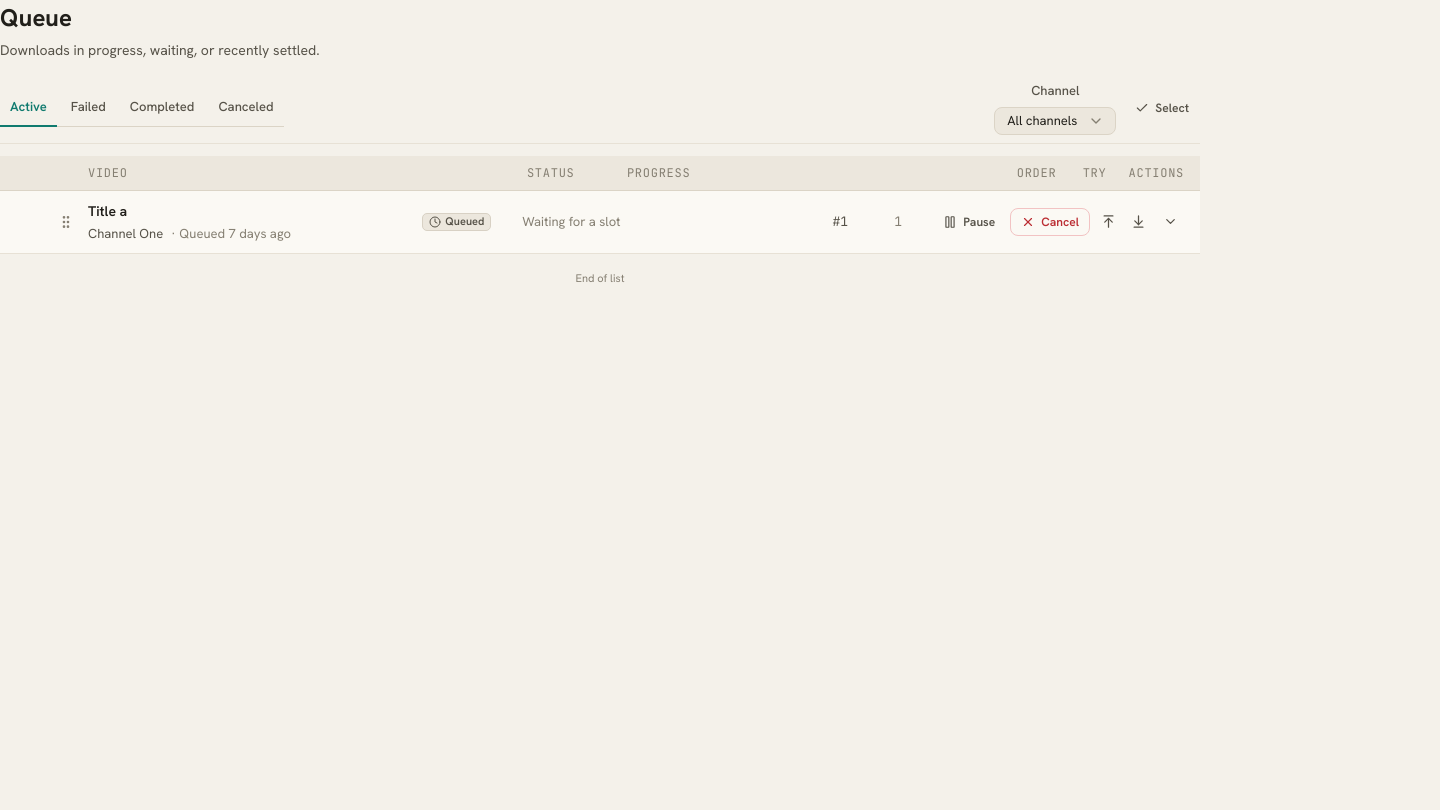
Test: QueuePage — cancel (§5.1) › confirms, then removes the row on a 200 settle
The width and height of the screenshot is (1440, 810).
Expected: the link "Title a" is shown, x1=88 y1=200 x2=127 y2=222
Click the button "Cancel" at (1050,222), box x1=1010 y1=208 x2=1090 y2=236
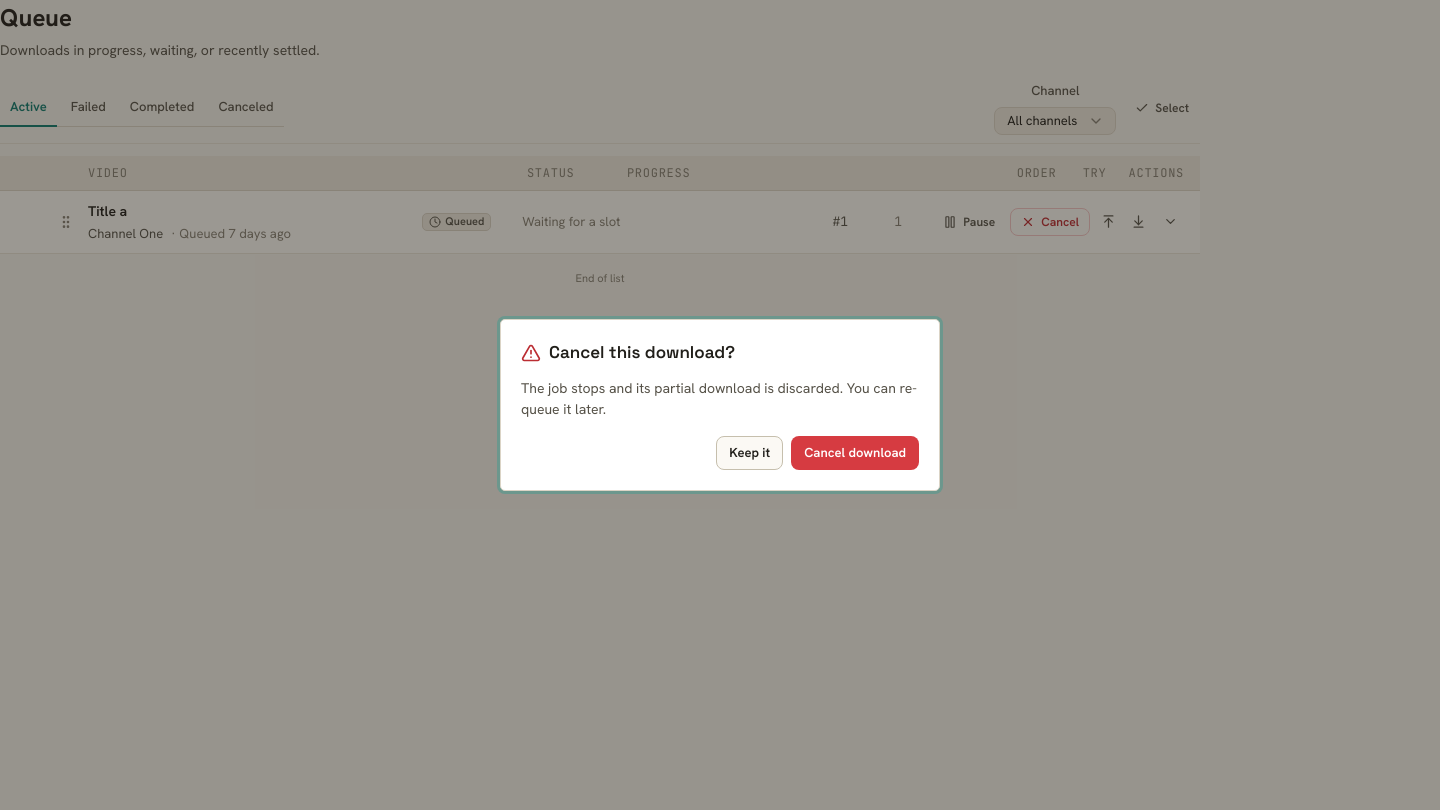
Click the button "Cancel download" at (855,453), box x1=791 y1=436 x2=919 y2=470
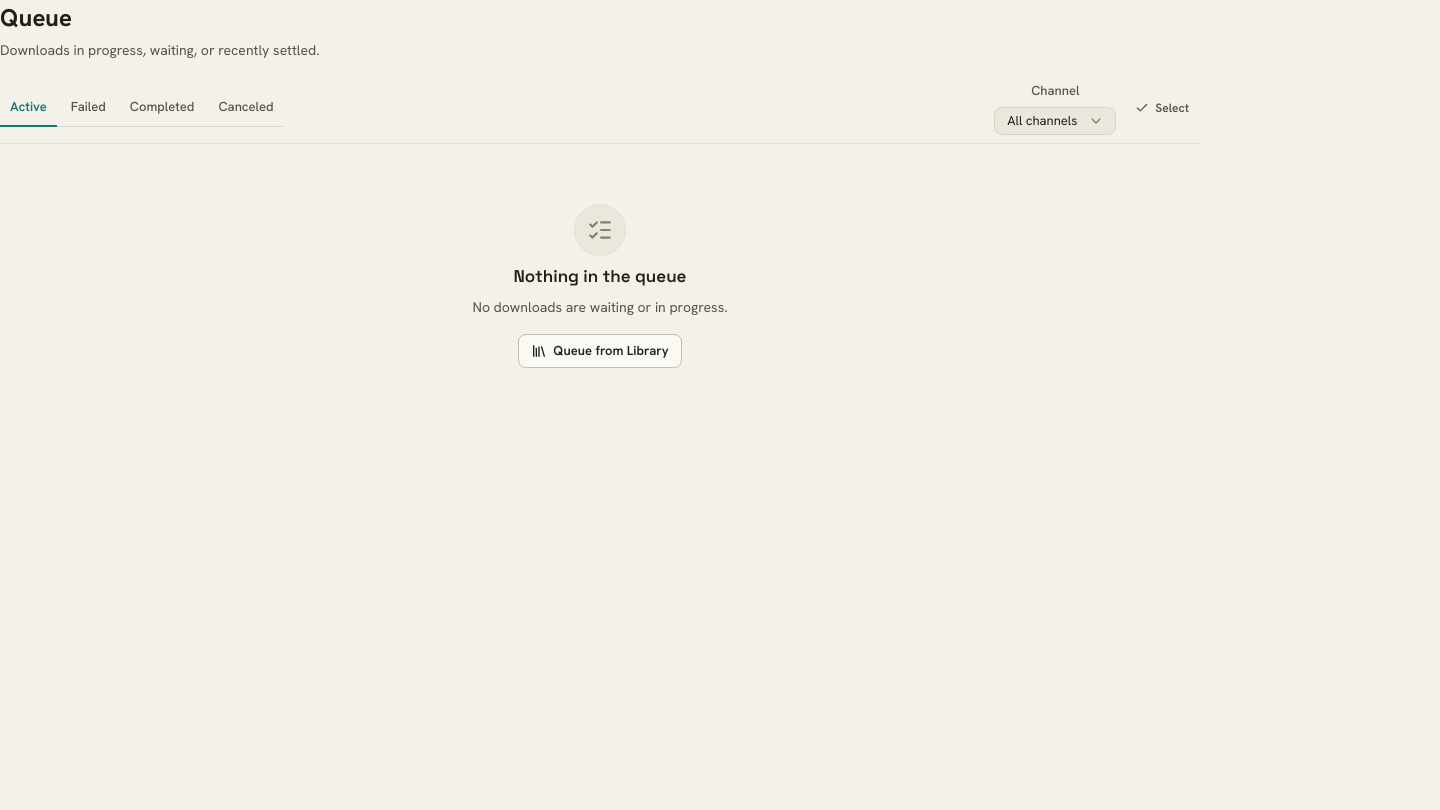
Expected: the link "Title a" is gone
